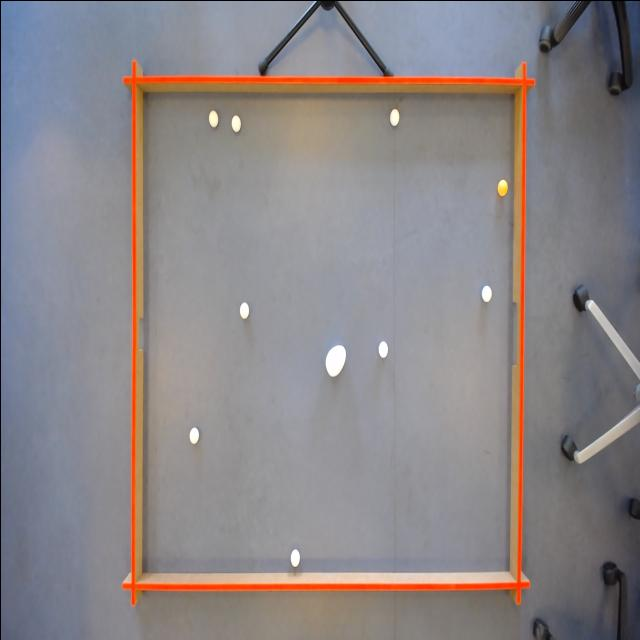egg: (324, 340, 346, 380)
orange_ball: (495, 174, 507, 198)
white_ball: (287, 546, 301, 570), (207, 108, 219, 130), (388, 106, 400, 128), (480, 282, 492, 304), (187, 425, 200, 445), (230, 112, 241, 134), (375, 340, 387, 360), (237, 300, 249, 320)
